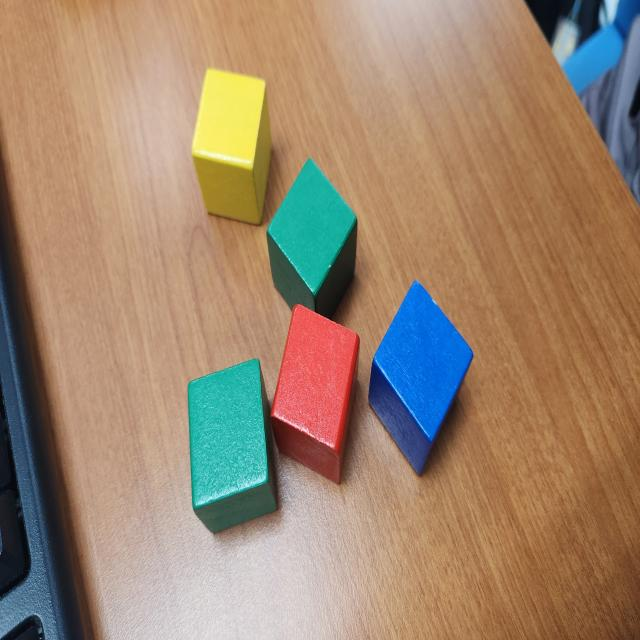blue: (366, 278, 474, 477)
green: (184, 356, 280, 534), (266, 156, 358, 327)
red: (270, 302, 360, 486)
yellow: (189, 68, 275, 227)
